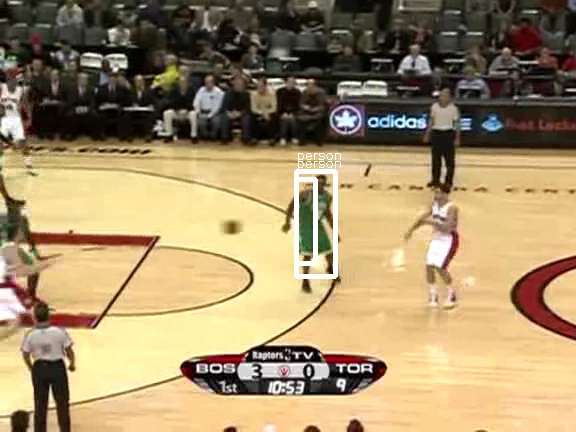person: (299, 182, 333, 263), (298, 182, 332, 263), (300, 182, 334, 263), (299, 181, 333, 262), (299, 183, 333, 264)
target_negative: (106, 124, 425, 389), (137, 42, 344, 331), (441, 105, 565, 215), (68, 132, 106, 299), (516, 3, 558, 13), (370, 277, 395, 289)
